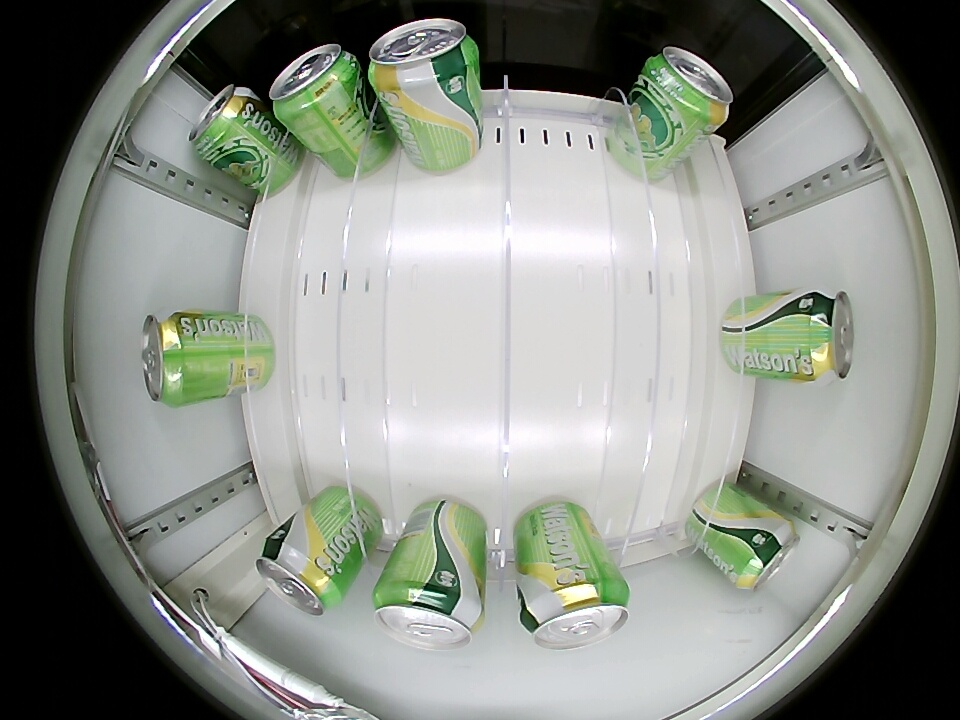quchenshixiangcao: (516, 577, 631, 653), (375, 578, 487, 652), (369, 20, 477, 94), (269, 43, 359, 124), (255, 536, 343, 617), (645, 46, 733, 124), (732, 514, 801, 591), (189, 82, 253, 162), (798, 290, 854, 380), (143, 312, 194, 406)
